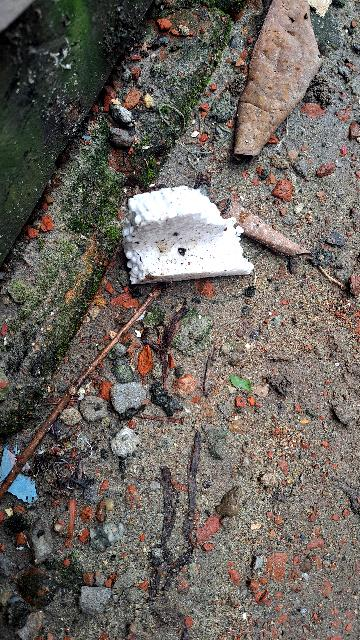cocksheet: (96, 164, 267, 299)
